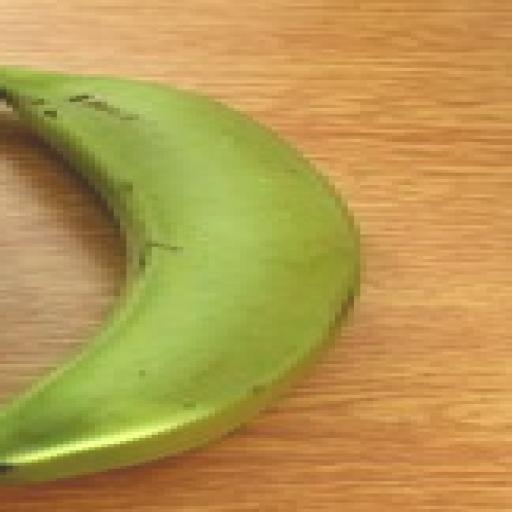banana-unripe: (0, 41, 389, 484)
